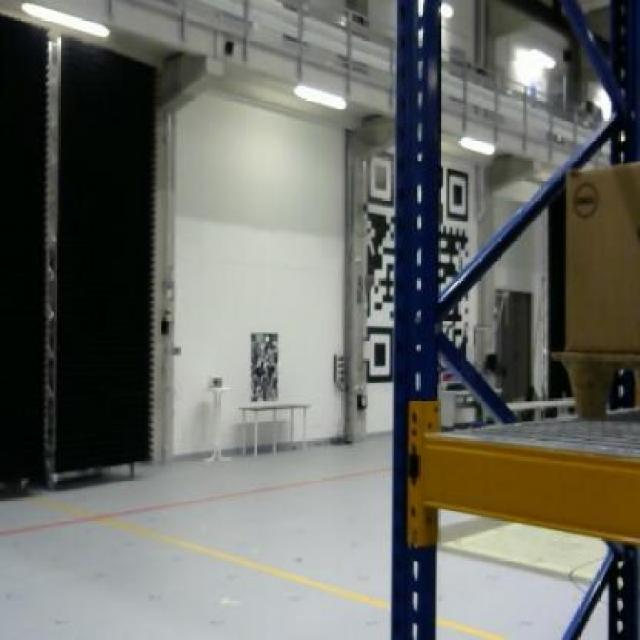box: (566, 160, 640, 352)
